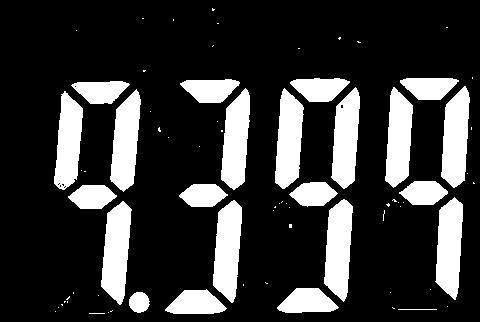3: (161, 76, 253, 318)
9: (49, 78, 143, 317), (380, 77, 473, 317), (271, 77, 362, 318)
dot: (127, 289, 152, 315)
